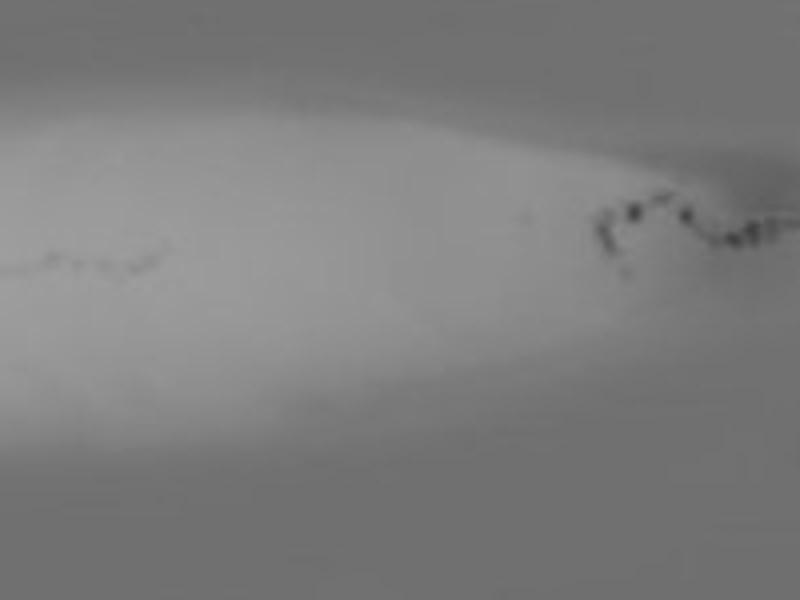defect: (592, 208, 619, 258), (740, 214, 761, 246), (614, 266, 640, 290), (142, 248, 165, 272), (702, 225, 722, 251), (43, 250, 64, 272), (649, 190, 674, 208), (678, 203, 695, 228), (95, 256, 114, 278), (625, 202, 644, 223), (767, 220, 782, 245), (67, 261, 89, 276), (125, 263, 144, 280), (730, 233, 743, 250)
